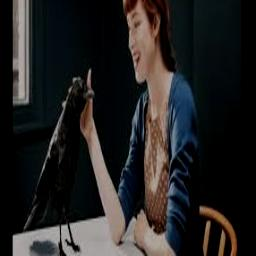Crow: (23, 80, 96, 256)
